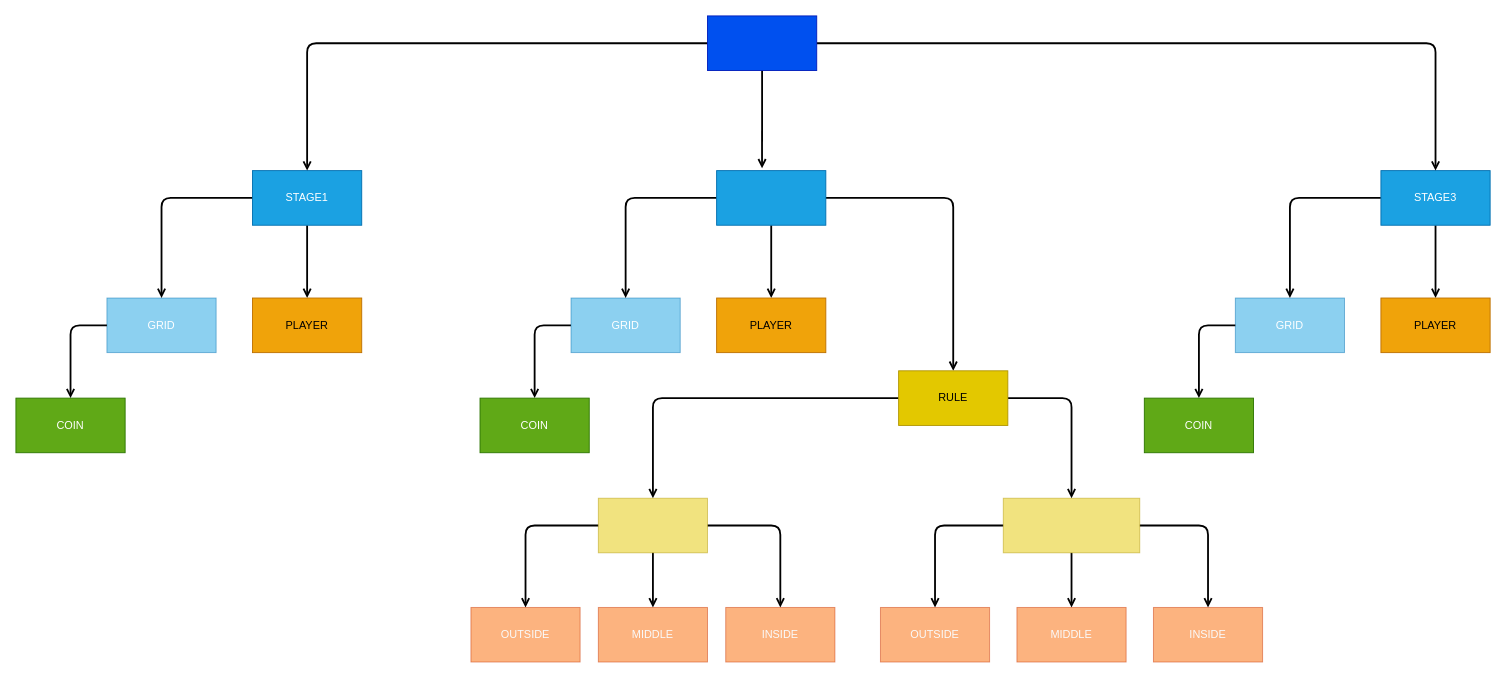
This 1506x678 diagram has some shape labels left out. Each missing label, with the centre of its shape:
"CORNERS" goes at (652,525).
"MAIN" goes at (762,43).
"MIDDLE_POSITIONS" goes at (1071,525).
"STAGE2" goes at (771,197).
